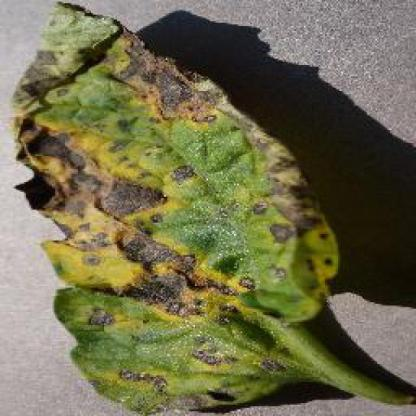Tomato_Blight: (13, 3, 338, 410)
